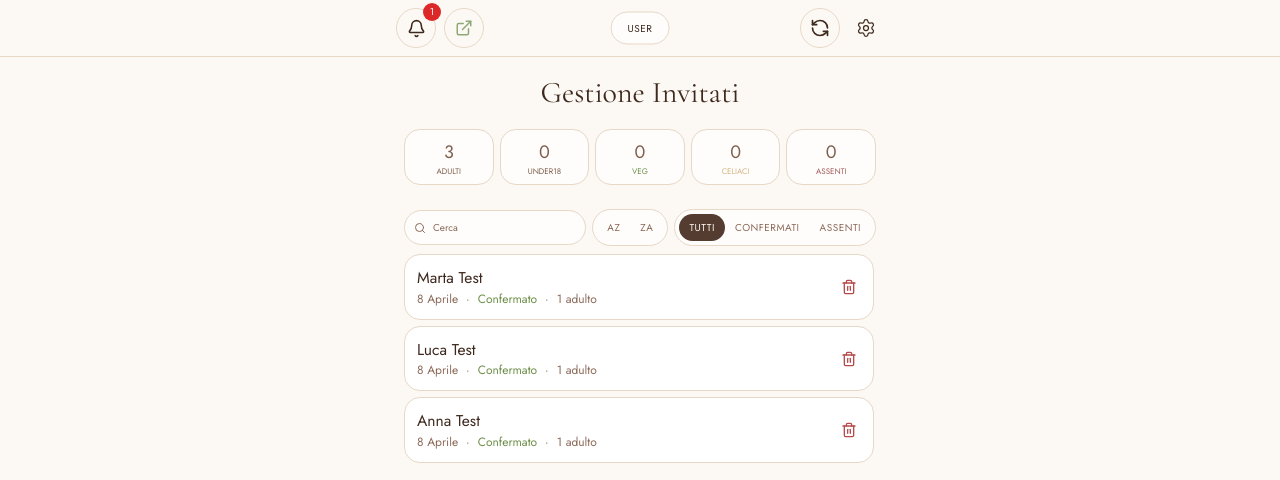
it: runtime sections are always active › flags only RSVPs newer than the last-seen mark and clears on click
This screenshot has width=1280, height=480.
Expected: the text with test id "badge-admin-notifications-count" reads "1", [430,4,434,19]
Click the button with test id "button-admin-notifications-topbar" at (416, 28), box [396,8,436,48]
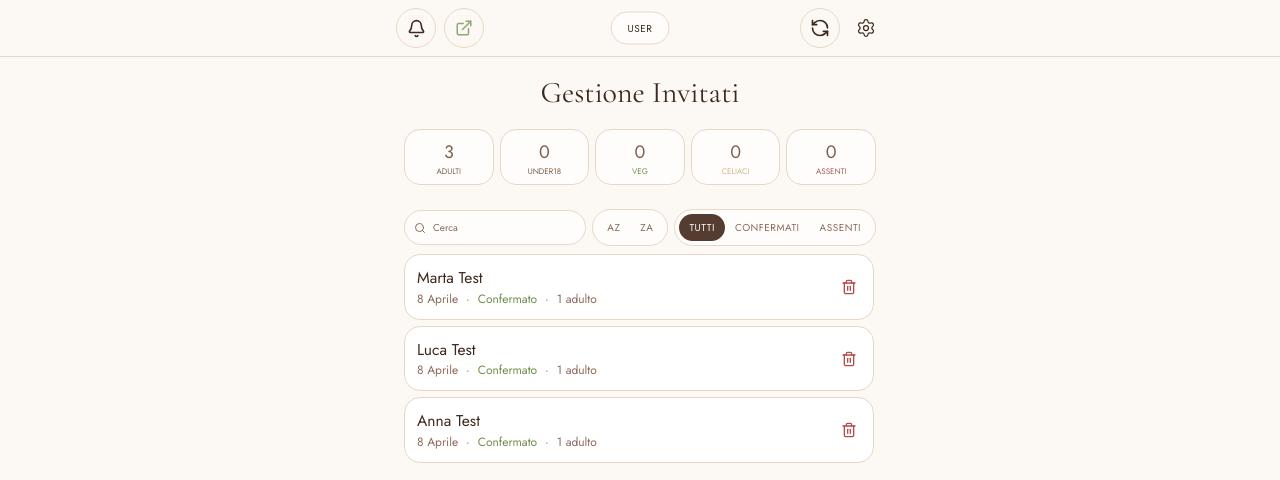
Expected: the text with test id "badge-admin-notifications-count" is gone
